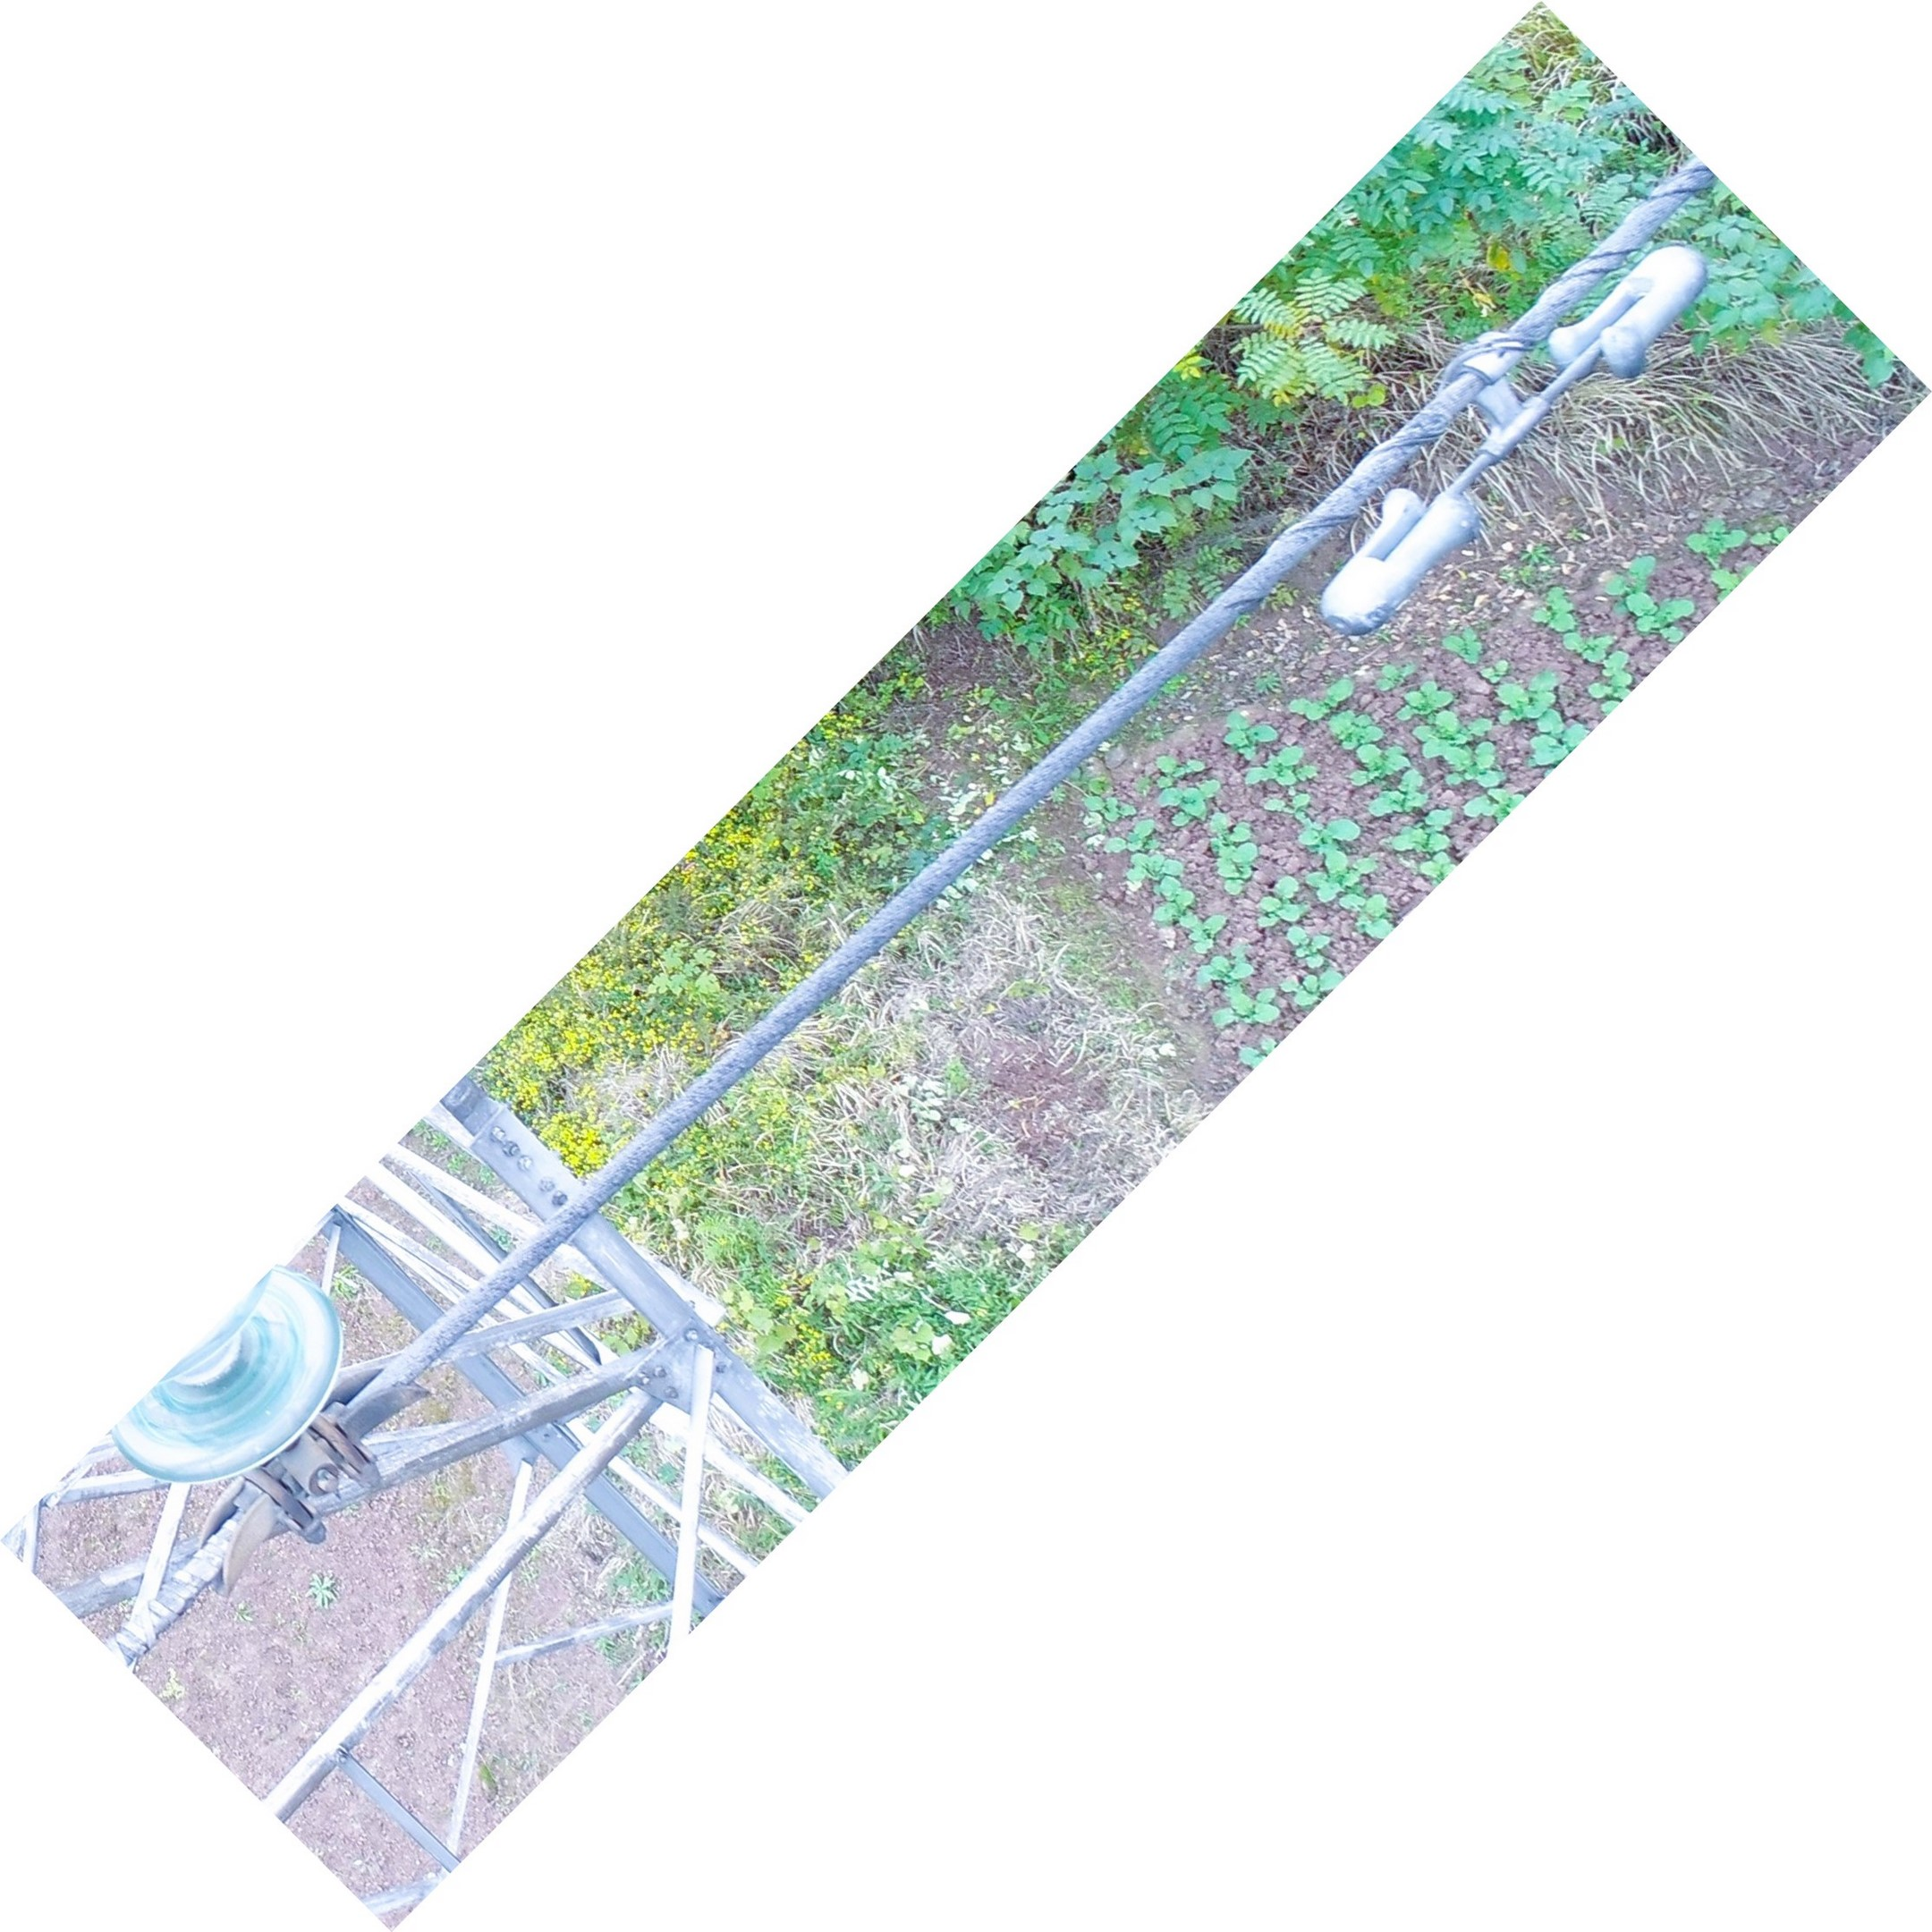Shockproof hammer: (1292, 209, 1718, 656)
